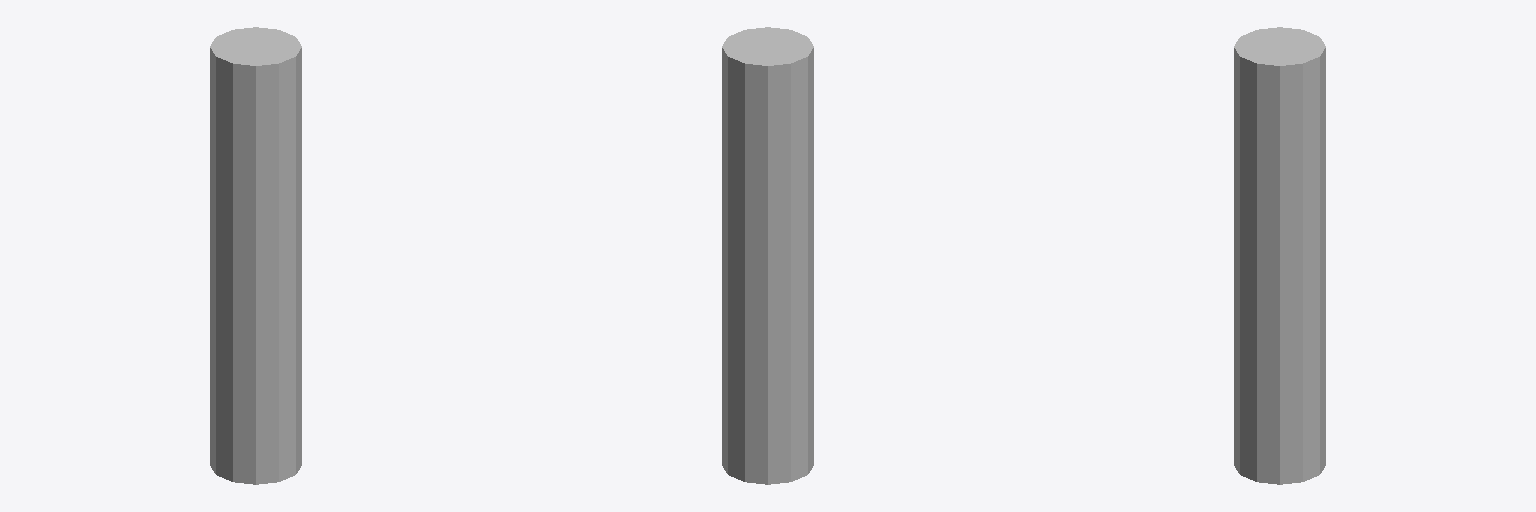
The model's file is wall_corner.obj.
3 views of the same model, side by side, from view 1: azimuth 30°, elevation 25°; view 2: azimuth 150°, elevation 25°; view 3: azimuth 270°, elevation 25° (orthographic).
Parts seen in each view (by area): view 1: Cylinder; view 2: Cylinder; view 3: Cylinder.
Part boxes in pixels (left/top/right/bottom): Cylinder: left=210, top=27, right=301, bottom=484; Cylinder: left=722, top=27, right=813, bottom=484; Cylinder: left=1234, top=27, right=1325, bottom=484.
Bounding box in the file's own units: 0.5 × 2.5 × 0.5.